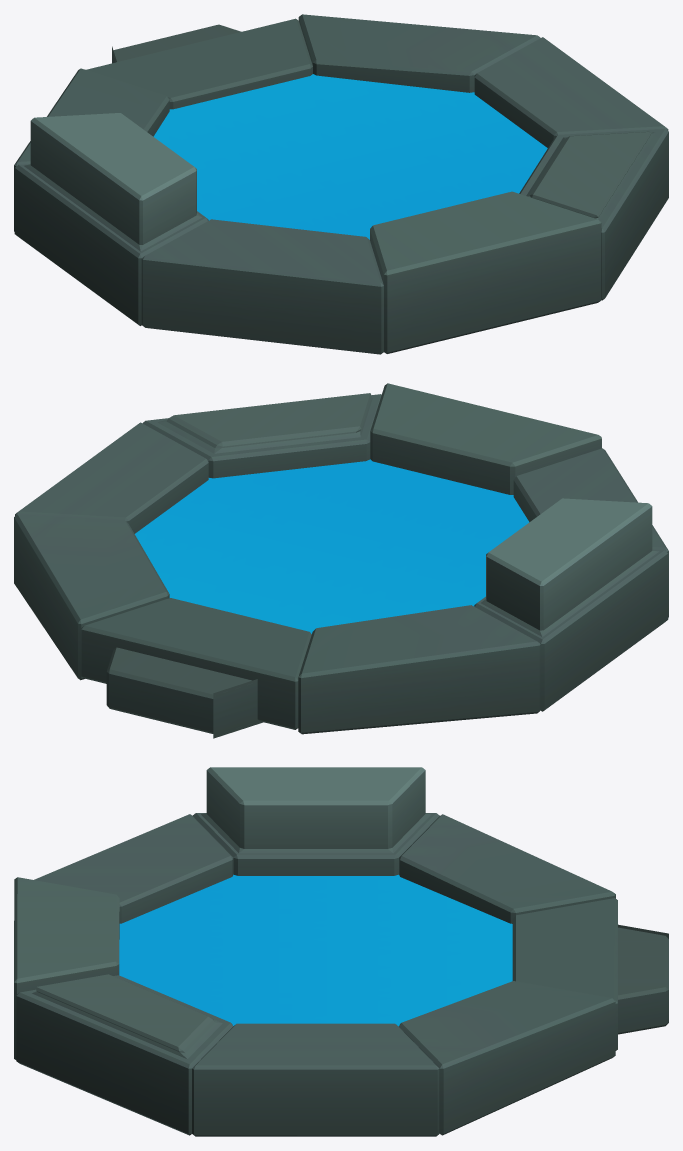
The model's file is FBX_Fountain 1.fbx.
3 renders of one model, top to bottom at view 1: azimuth 30°, elevation 25°; view 2: azimuth 150°, elevation 25°; view 3: azimuth 270°, elevation 25°, orthographic.
Visible parts, largest first — view 1: M_Fountain; view 2: M_Fountain; view 3: M_Fountain.
Boxes of the visible parts, box(x1,y1,x2,y2) form: M_Fountain: box(14, 14, 668, 354); M_Fountain: box(14, 383, 668, 738); M_Fountain: box(14, 767, 668, 1136).
Bounding box in the file's own units: 2.62 × 0.6335 × 2.84.
